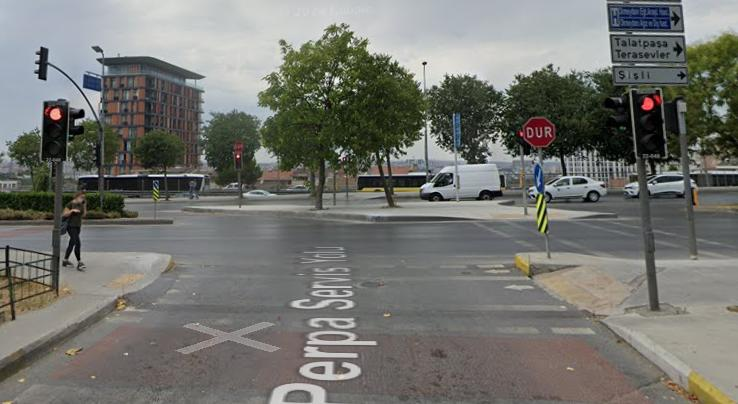redlight: (625, 83, 671, 161), (40, 94, 70, 167), (233, 151, 244, 171)
stop: (519, 113, 560, 153), (233, 140, 244, 151)
